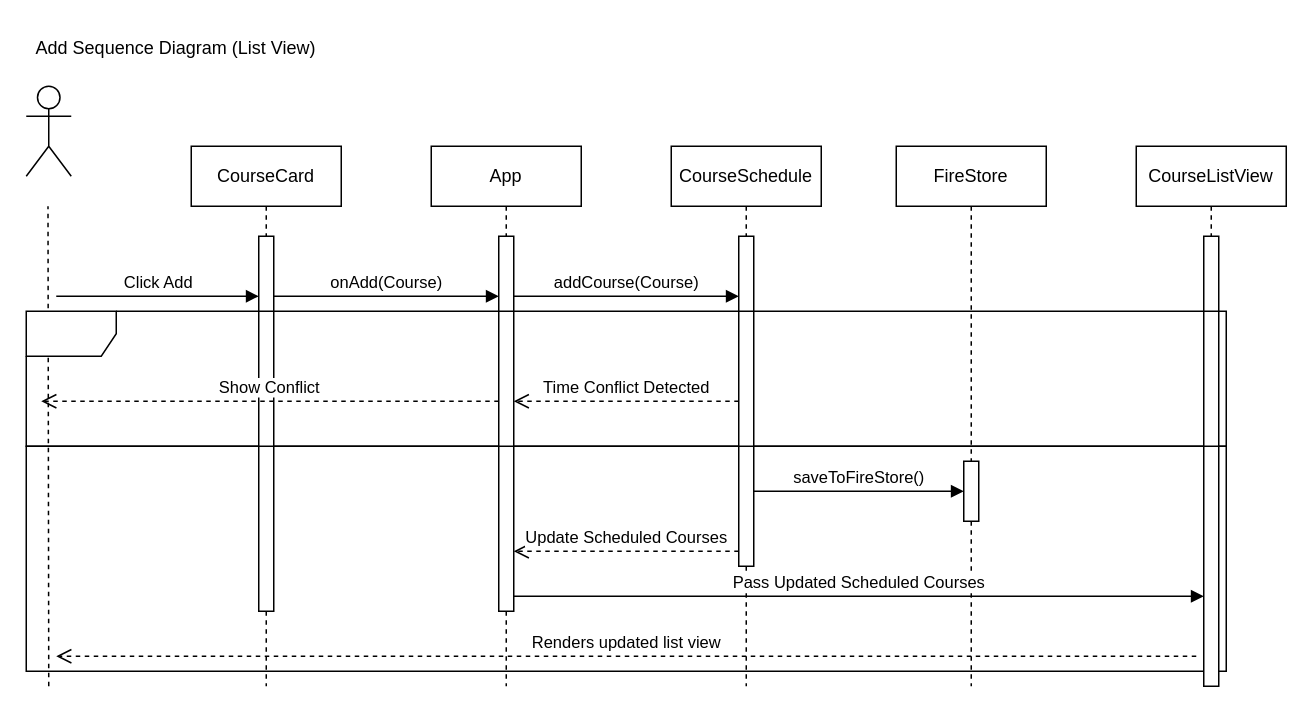
This 1313x714 diagram has some shape labels left out. Each missing label, with the centre of its shape:
Alt: [625,378]
User: [48,130]
